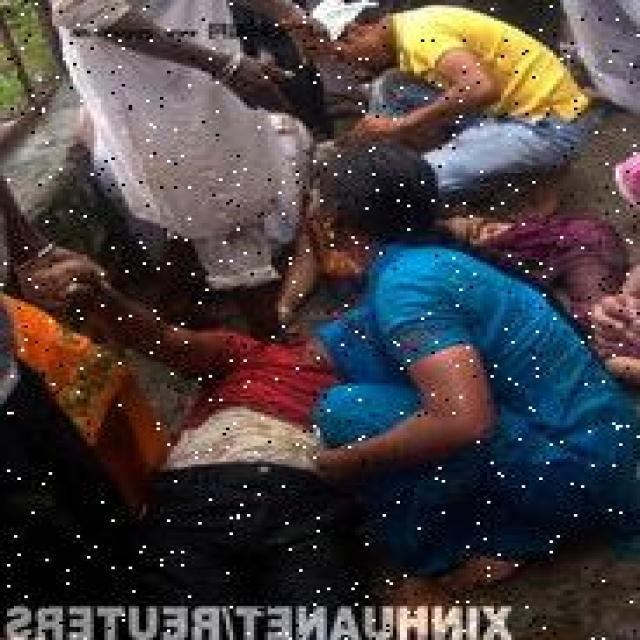fall: (45, 260, 341, 604)
